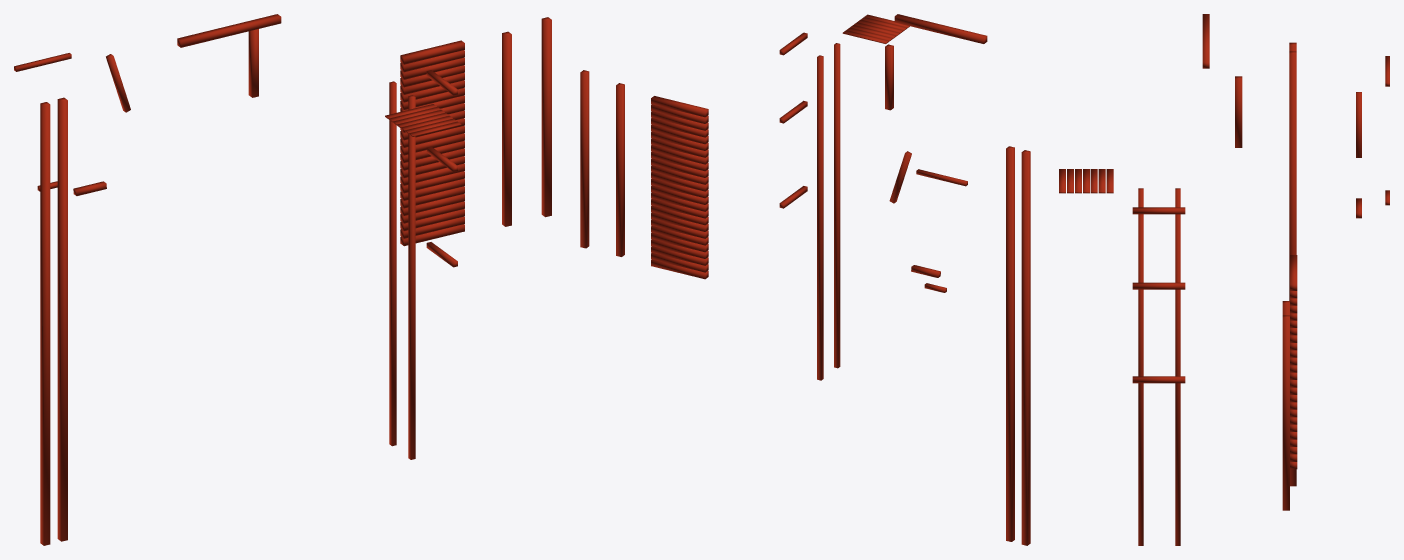
File: Madera01Lvl01_low.fbx
3 views of the same model, side by side, from view 1: azimuth 30°, elevation 25°; view 2: azimuth 150°, elevation 25°; view 3: azimuth 270°, elevation 25° (orthographic). The views are drawn at different scales.
Parts seen in each view (by area): view 1: MaderasLvl01_low; view 2: MaderasLvl01_low; view 3: MaderasLvl01_low.
Part boxes in pixels (bbox=[...]): MaderasLvl01_low: bbox=[14, 14, 551, 545]; MaderasLvl01_low: bbox=[580, 14, 1030, 545]; MaderasLvl01_low: bbox=[1059, 14, 1389, 545].
Bounding box in the file's own units: 2753 × 2683 × 1592.
